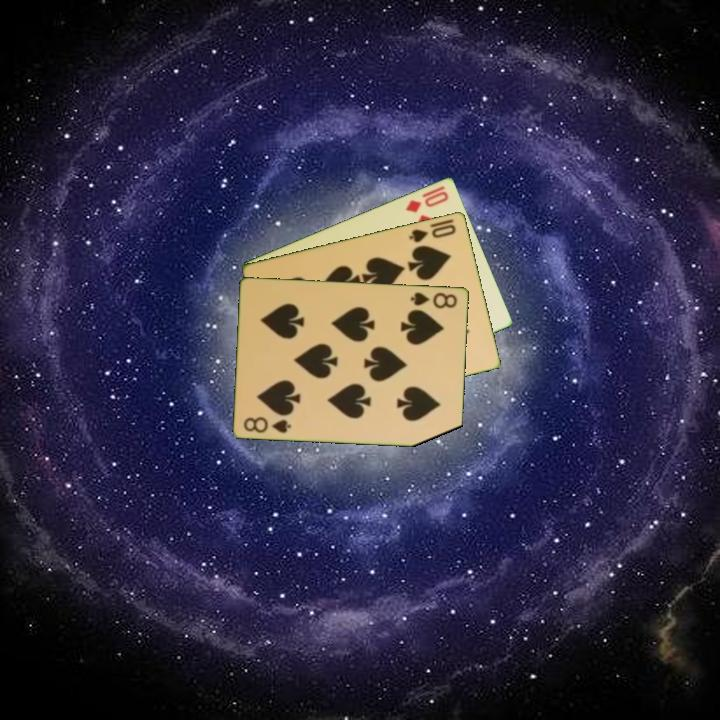10d: (402, 187, 452, 215)
10s: (406, 220, 459, 245)
8s: (407, 288, 460, 311), (241, 413, 294, 436)
